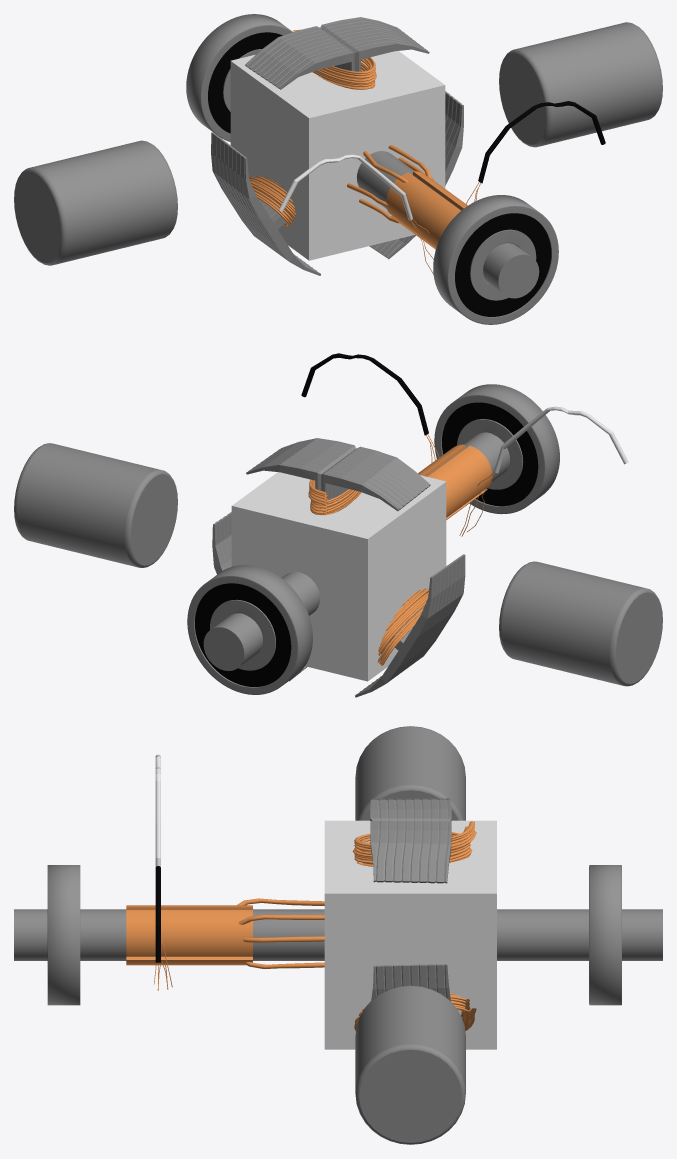
The model's file is ads.fbx.
3 renders of one model, top to bottom at view 1: azimuth 30°, elevation 25°; view 2: azimuth 150°, elevation 25°; view 3: azimuth 270°, elevation 25°, orthographic. The views are drawn at different scales.
Visible parts, largest first — view 1: Cube, Cylinder.047, Cylinder.006, Cube.001, Cylinder.042, Cylinder.043, Cylinder, Cylinder.002, Cylinder.009, Cylinder.004, Cylinder.040, Cylinder.003 (+1 smaller); view 2: Cube, Cylinder.047, Cylinder.006, Cube.001, Cylinder.043, Cylinder.042, Cylinder, Cylinder.002, Cylinder.003, Cylinder.004, Cylinder.005, Cylinder.009; view 3: Cube, Cylinder.006, Cylinder, Cube.001, Cylinder.047, Cylinder.002, Cylinder.042, Cylinder.043, Cylinder.040, Cylinder.009, Cylinder.004, Cylinder.005.
Part boxes in pixels (bbox=[...]): Cube: bbox=[230, 51, 445, 260]; Cylinder.047: bbox=[14, 140, 177, 265]; Cylinder.006: bbox=[499, 22, 662, 147]; Cube.001: bbox=[211, 17, 463, 275]; Cylinder.042: bbox=[433, 195, 558, 324]; Cylinder.043: bbox=[186, 14, 292, 141]; Cylinder: bbox=[357, 151, 539, 298]; Cylinder.002: bbox=[386, 171, 467, 249]; Cylinder.009: bbox=[293, 29, 376, 89]; Cylinder.004: bbox=[278, 154, 435, 274]; Cylinder.040: bbox=[347, 145, 434, 223]; Cylinder.003: bbox=[249, 176, 295, 226]; Cube: bbox=[231, 472, 446, 681]; Cylinder.047: bbox=[499, 561, 662, 686]; Cylinder.006: bbox=[14, 443, 177, 567]; Cube.001: bbox=[212, 438, 465, 697]; Cylinder.043: bbox=[187, 565, 312, 694]; Cylinder.042: bbox=[434, 384, 559, 514]; Cylinder: bbox=[203, 432, 509, 670]; Cylinder.002: bbox=[418, 444, 492, 519]; Cylinder.003: bbox=[377, 588, 428, 665]; Cylinder.004: bbox=[459, 406, 628, 536]; Cylinder.005: bbox=[301, 353, 439, 462]; Cylinder.009: bbox=[308, 479, 361, 515]; Cube: bbox=[324, 820, 496, 1049]; Cylinder.006: bbox=[355, 985, 465, 1144]; Cylinder: bbox=[14, 909, 662, 960]; Cube.001: bbox=[370, 798, 451, 1001]; Cylinder.047: bbox=[355, 726, 465, 820]; Cylinder.002: bbox=[126, 905, 252, 965]; Cylinder.042: bbox=[47, 865, 80, 1005]; Cylinder.043: bbox=[589, 865, 621, 1005]; Cylinder.040: bbox=[237, 898, 324, 968]; Cylinder.009: bbox=[352, 821, 476, 866]; Cylinder.004: bbox=[154, 754, 160, 990]; Cylinder.005: bbox=[155, 866, 172, 989].
Bounding box in the file's own units: 884 × 306 × 753.
